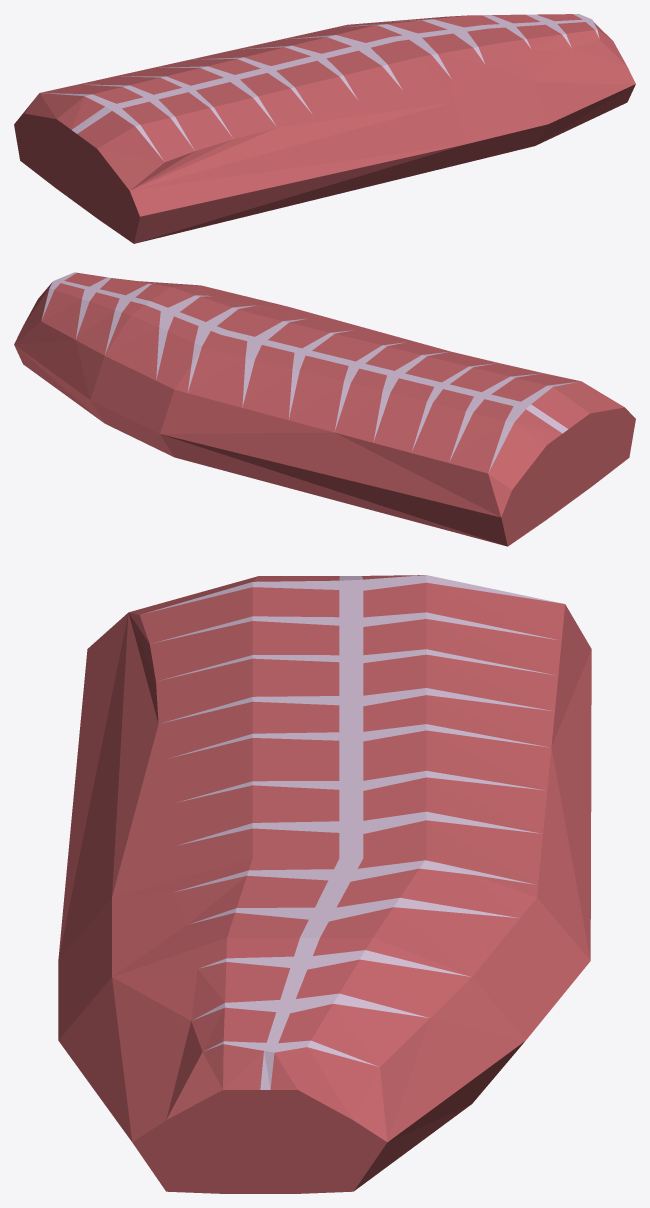
The model's file is FishFillet.fbx.
The picture shows the model from 3 angles, top to bottom: view 1: azimuth 30°, elevation 25°; view 2: azimuth 150°, elevation 25°; view 3: azimuth 270°, elevation 25°; orthographic projection. The views are drawn at different scales.
Parts seen in each view (by area): view 1: Cylinder.003, Cylinder.002; view 2: Cylinder.003, Cylinder.002; view 3: Cylinder.003, Cylinder.002.
Boxes of the visible parts, box(x1,y1,x2,y2) form: Cylinder.003: box(14, 14, 635, 243); Cylinder.002: box(42, 14, 599, 161); Cylinder.003: box(14, 272, 635, 546); Cylinder.002: box(41, 272, 578, 472); Cylinder.003: box(58, 575, 591, 1193); Cylinder.002: box(142, 575, 562, 1089).
Size of the model in its own units: 46.52 by 7.4 by 21.18.
